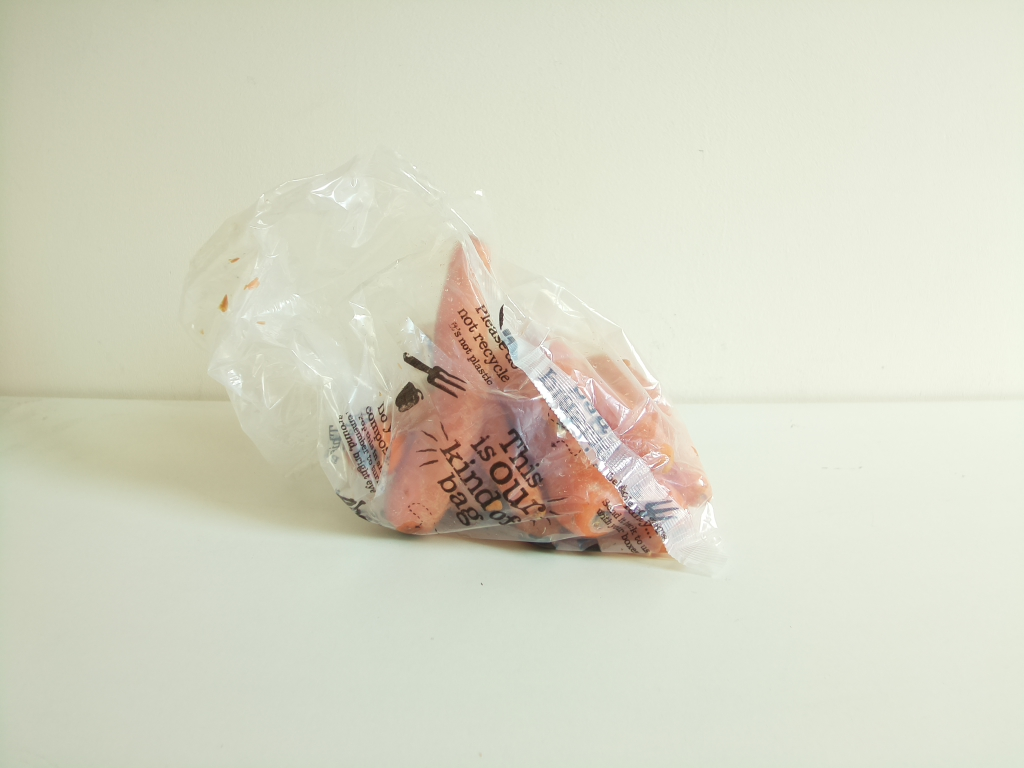carrot: (349, 233, 717, 568)
